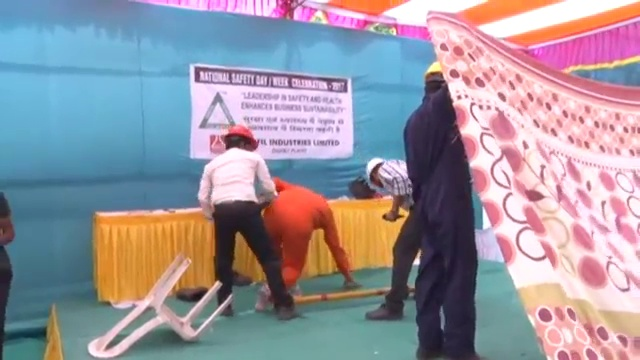helmet: (227, 123, 260, 148), (364, 156, 385, 191), (422, 60, 446, 76)
helmet_on: (223, 123, 260, 154), (364, 155, 389, 193), (420, 59, 447, 94)
person: (403, 60, 483, 360), (198, 124, 299, 323), (257, 175, 353, 310), (364, 154, 419, 324)
